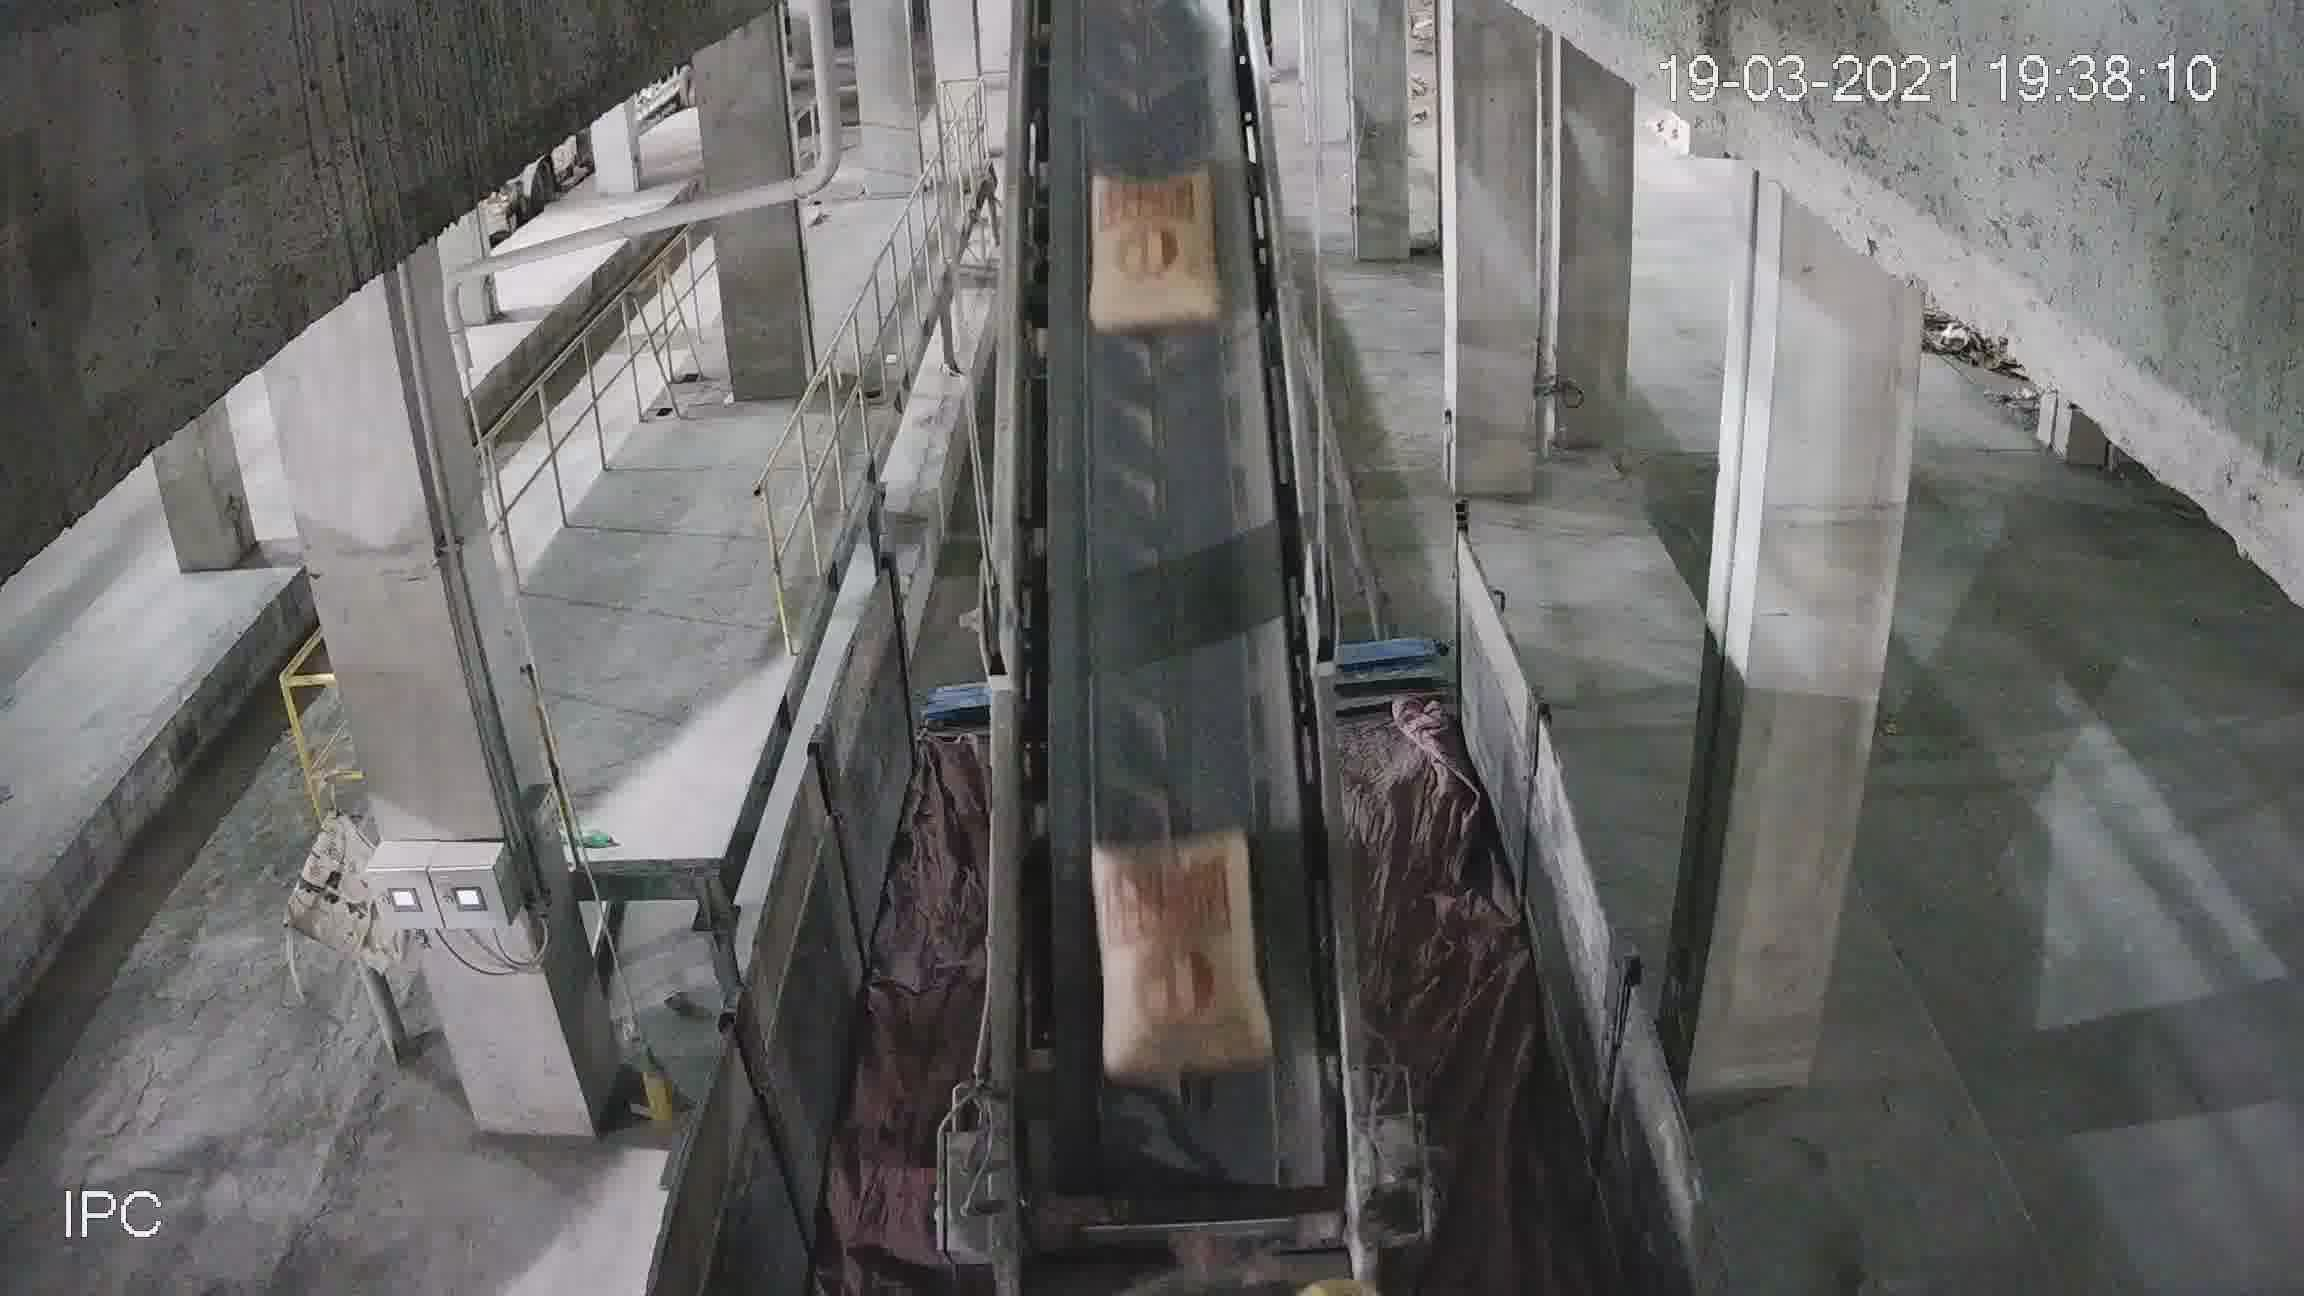bag: (1093, 826, 1253, 1078), (1093, 176, 1214, 329)
belt: (991, 89, 1332, 1078)
